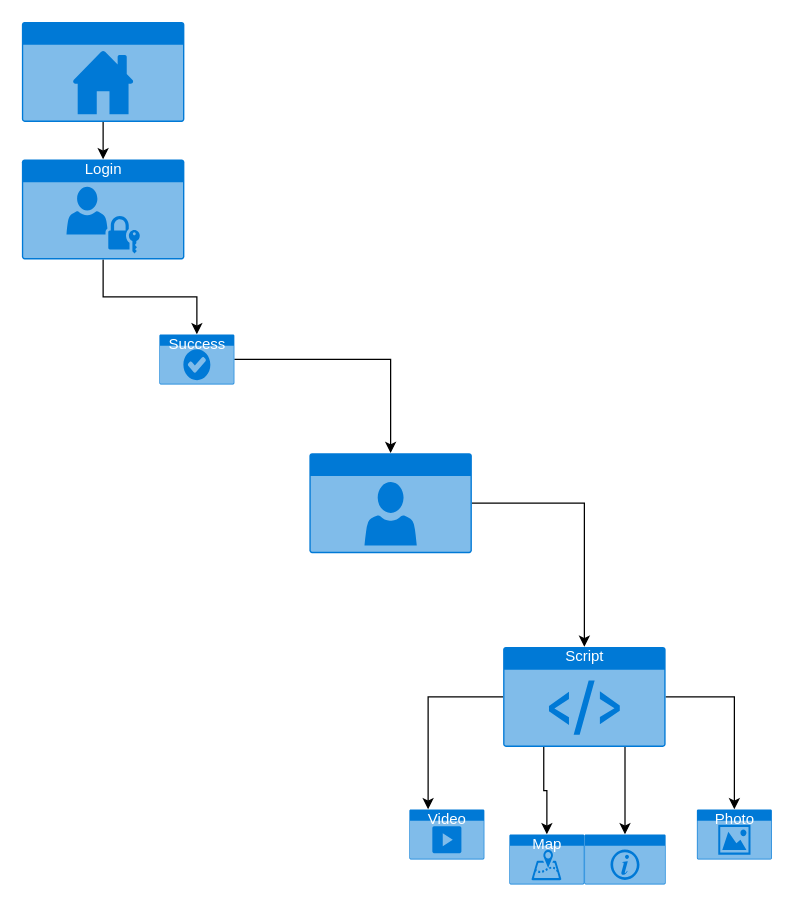
The diagram is 793 pixels wide and 905 high, and some of its shapes have lost their labels. Here are the shapes that lost their labels. From the top down, the centre of each, then its label:
At point (102, 71): "Home".
At point (390, 502): "Profile".
At point (624, 859): "Info".
